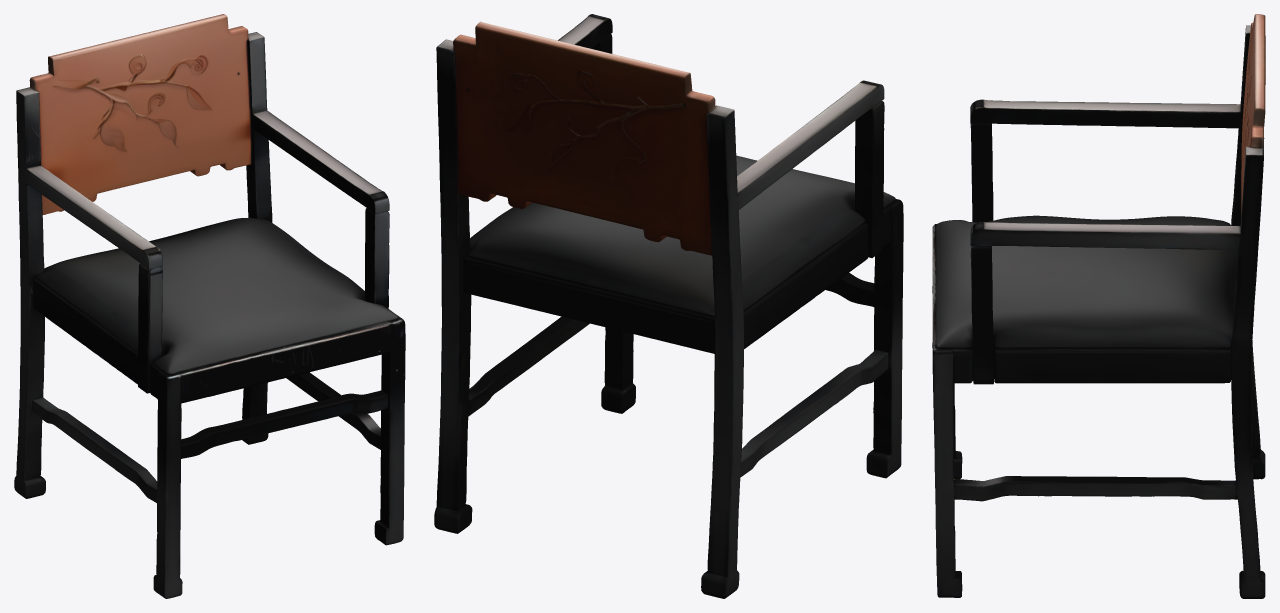
The picture shows the model from 3 angles, left to right: view 1: azimuth 30°, elevation 25°; view 2: azimuth 150°, elevation 25°; view 3: azimuth 270°, elevation 25°; orthographic projection. The views are drawn at different scales.
Parts seen in each view (by area): view 1: root.0, root.1, root.2, root.5, root.4, root.8, root.3, root.7, root.6, root.10, root.11, root.12 (+1 smaller); view 2: root.1, root.0, root.2, root.3, root.5, root.6, root.10, root.11, root.9, root.4, root.7, root.8; view 3: root.0, root.3, root.6, root.7, root.9, root.4, root.12, root.1, root.2, root.11.
Part boxes in pixels (x1,y1,x2,y2): root.0: (33,218,397,403); root.1: (29,14,252,214); root.2: (14,87,45,498); root.5: (153,371,182,598); root.4: (374,315,405,545); root.8: (181,390,388,458); root.3: (242,32,272,444); root.7: (252,110,389,213); root.6: (26,165,162,269); root.10: (31,397,157,502); root.11: (138,263,162,393); root.12: (365,208,389,308); root.1: (453,21,715,255); root.0: (463,155,895,353); root.2: (701,105,743,598); root.3: (434,39,472,533); root.5: (866,199,903,478); root.6: (737,80,884,209); root.10: (740,349,888,476); root.11: (855,101,884,257); root.9: (468,316,589,415); root.4: (601,327,635,413); root.7: (558,14,612,48); root.8: (825,273,874,306); root.0: (932,215,1238,383); root.3: (1231,146,1265,598); root.6: (970,99,1240,128); root.7: (970,222,1240,250); root.9: (954,476,1237,501); root.4: (932,347,962,597); root.12: (970,246,993,384); root.1: (1241,14,1265,212); root.2: (1231,25,1265,479); root.11: (970,123,993,222).
Bounding box in the file's own units: 0.5218 × 0.88 × 0.5606.
13 materials, 13 textured.
